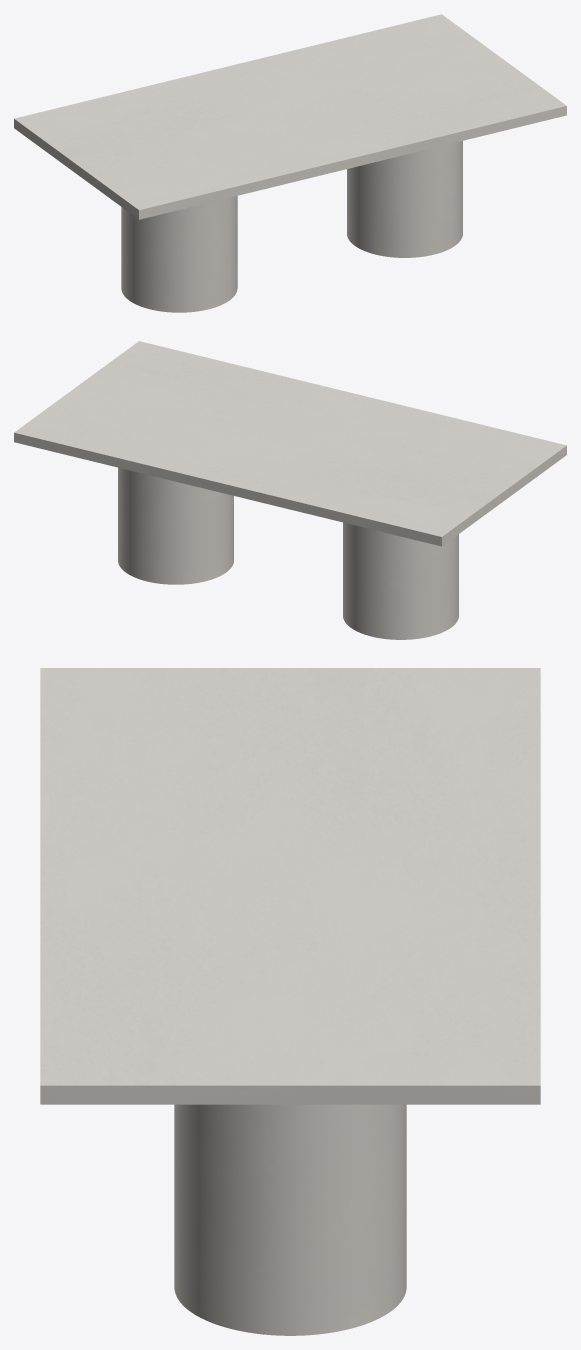
Rendered from pearlwhite_recta_standard_stream.glb.
3 views of the same model, one above another, from view 1: azimuth 30°, elevation 25°; view 2: azimuth 150°, elevation 25°; view 3: azimuth 270°, elevation 25° (orthographic). The views are drawn at different scales.
Parts seen in each view (by area): view 1: standard_recta, stream; view 2: standard_recta, stream; view 3: standard_recta, stream.
Boxes of the visible parts, left/top/right/bottom form: standard_recta: left=14, top=14, right=566, bottom=219; stream: left=121, top=141, right=462, bottom=312; standard_recta: left=14, top=341, right=566, bottom=546; stream: left=118, top=467, right=458, bottom=639; standard_recta: left=40, top=668, right=540, bottom=1104; stream: left=174, top=1104, right=406, bottom=1335.
Bounding box in the file's own units: 7.5 × 2.5 × 3.8.
1 material, 1 textured.
